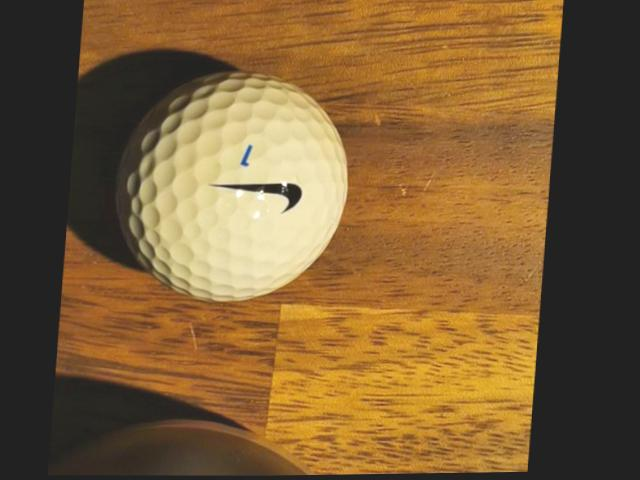Ball: (112, 65, 360, 305)
Nike: (210, 180, 307, 215)
